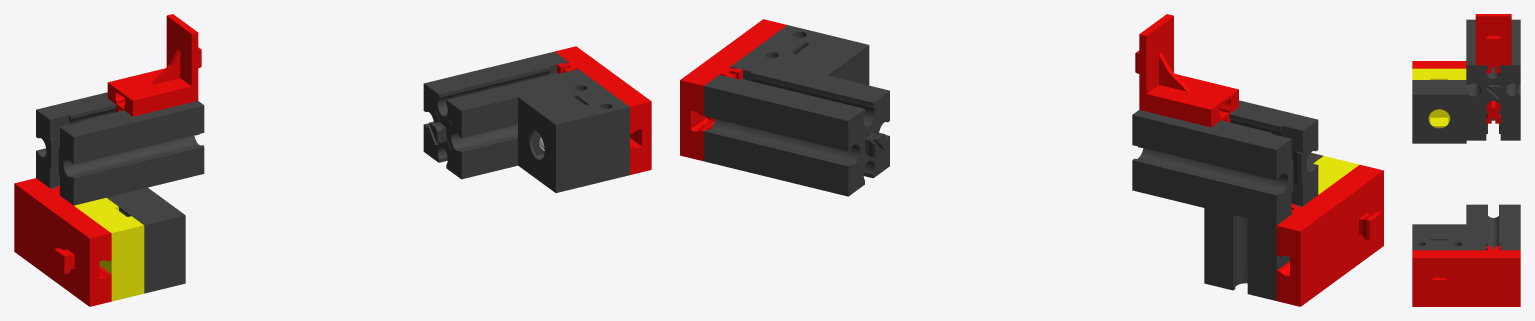
File: snimac1-centerred.obj
3 renders of one model, left to right at view 1: azimuth 30°, elevation 25°; view 2: azimuth 150°, elevation 25°; view 3: azimuth 270°, elevation 25°, orthographic. The views are drawn at different scales.
Visible parts, largest first — view 1: obj2, obj3, obj1; view 2: obj2, obj3, obj1; view 3: obj2, obj3, obj1.
Part boxes in pixels (<box>): obj2: <box>36,51,629,293</box>; obj3: <box>14,14,651,306</box>; obj1: <box>74,197,144,301</box>; obj2: <box>704,25,1323,300</box>; obj3: <box>680,14,1383,306</box>; obj1: <box>1313,156,1359,194</box>; obj2: <box>1412,19,1520,250</box>; obj3: <box>1412,14,1520,306</box>; obj1: <box>1412,68,1466,127</box>.
Size of the model in its own units: 134 by 45 by 30.
